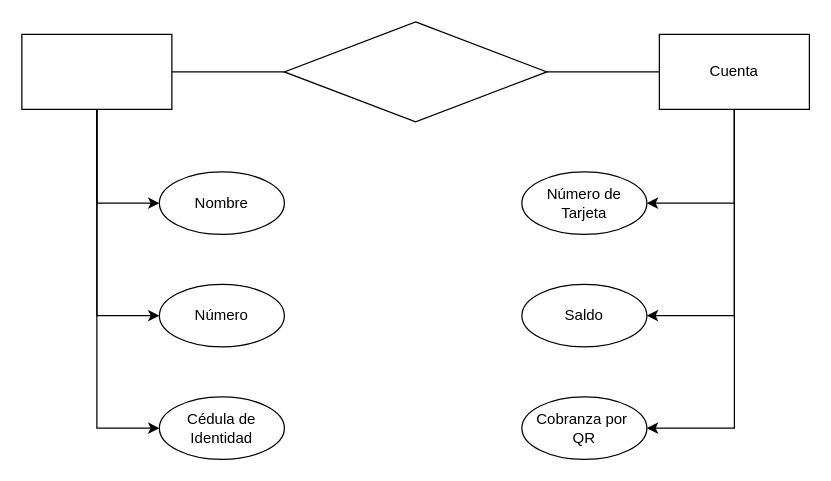
Image size: 831x481. Some labels were removed from this diagram. The shapes that lost their labels are listed below. From the top down, each one's box as (x1, y1, x2, y2) in pixels, then its label:
(21, 33, 172, 109): Usuario
(283, 21, 547, 122): Banco
